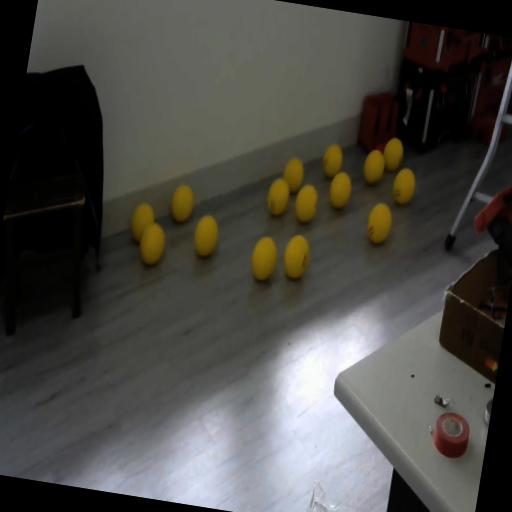FUEL: (246, 232, 280, 284), (280, 232, 312, 282), (189, 212, 222, 260), (126, 199, 158, 245), (363, 200, 394, 247), (291, 180, 320, 224), (168, 181, 196, 225), (326, 170, 354, 212), (264, 176, 291, 218), (389, 166, 417, 206), (360, 146, 387, 186), (280, 154, 306, 194), (380, 134, 406, 172), (320, 141, 344, 179)
